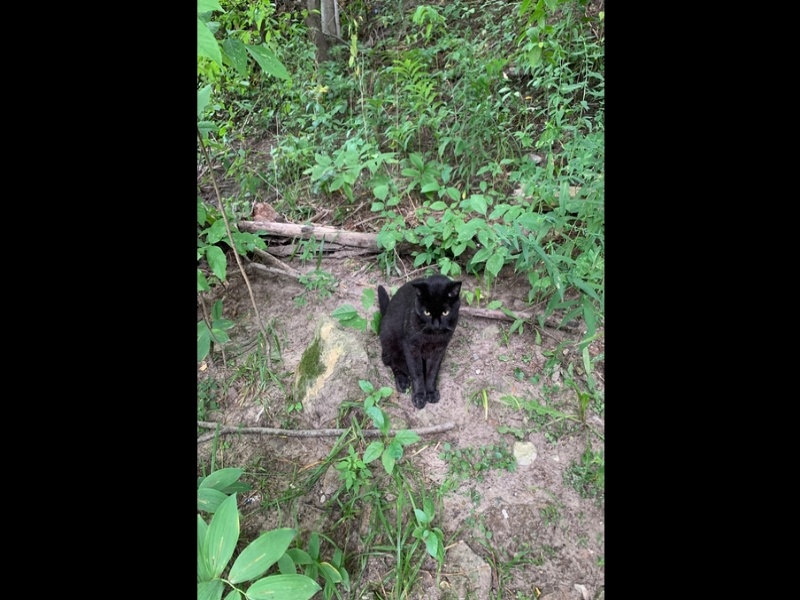cat: (363, 269, 466, 410)
